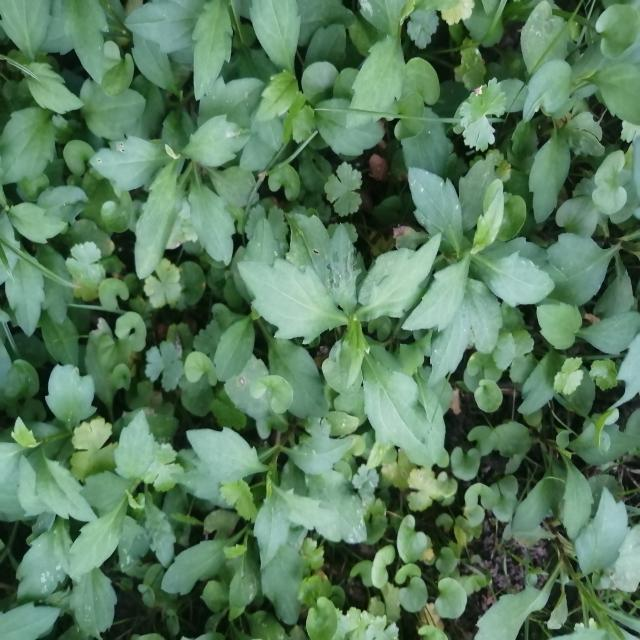Indian aster: (251, 212, 459, 464), (73, 95, 257, 282), (191, 400, 349, 588)
